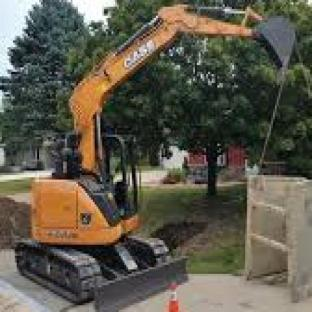ExcavationMachinery: (17, 21, 302, 279)
